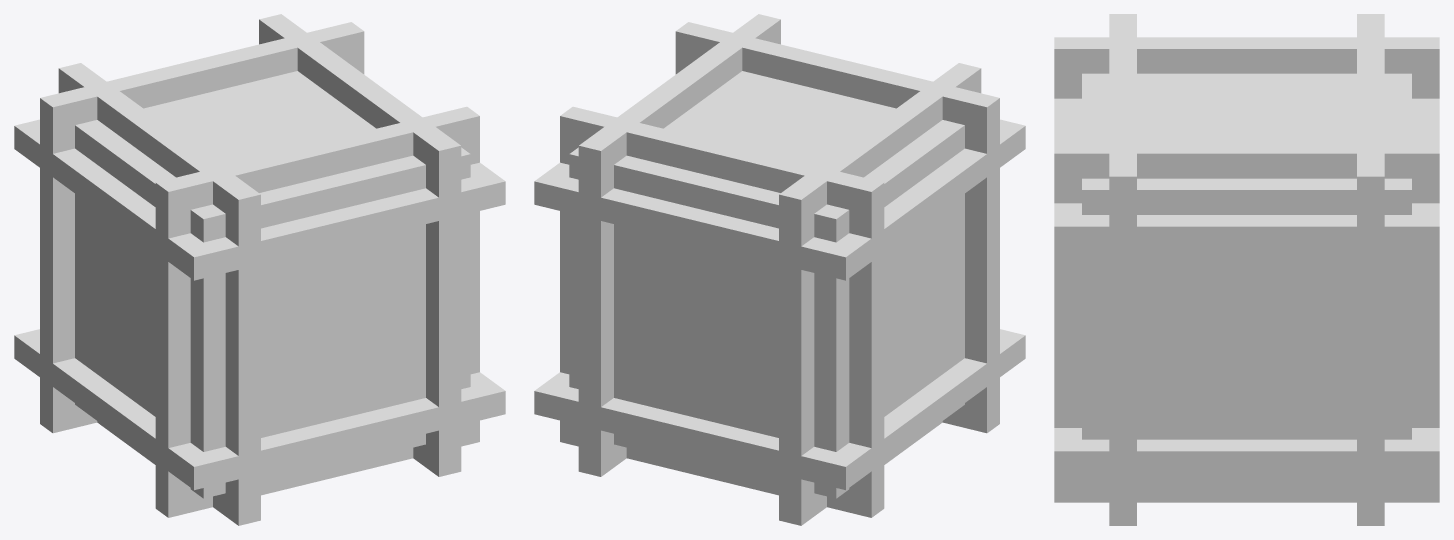
Rendered from ml_scalar_value_0.obj.
3 views of the same model, side by side, from view 1: azimuth 30°, elevation 25°; view 2: azimuth 150°, elevation 25°; view 3: azimuth 270°, elevation 25° (orthographic). The views are drawn at different scales.
Visible parts, largest first — view 1: ml_scalar_value_0.001; view 2: ml_scalar_value_0.001; view 3: ml_scalar_value_0.001.
Part boxes in pixels (<box>): ml_scalar_value_0.001: <box>14,14,505,525</box>; ml_scalar_value_0.001: <box>534,14,1025,525</box>; ml_scalar_value_0.001: <box>1054,14,1439,525</box>.
Bounding box in the file's own units: 0.7 × 0.7 × 0.7.
